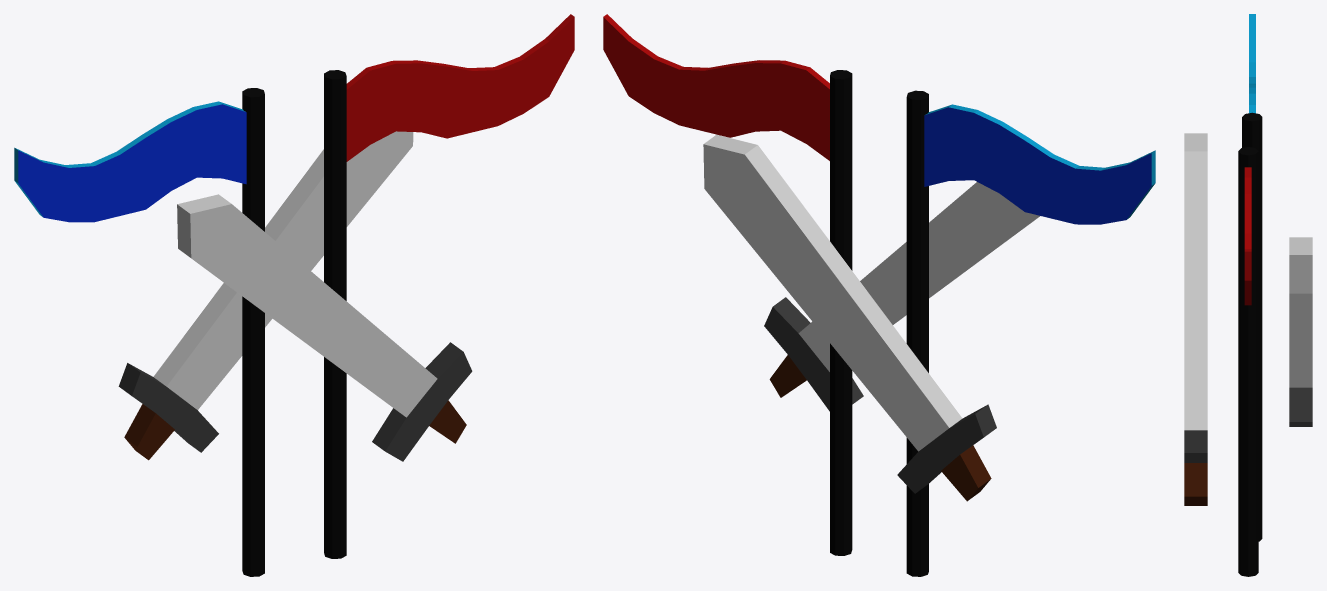
The model's file is battle.obj.
3 renders of one model, left to right at view 1: azimuth 30°, elevation 25°; view 2: azimuth 150°, elevation 25°; view 3: azimuth 270°, elevation 25°, orthographic. The views are drawn at different scales.
Parts seen in each view (by area): view 1: Grid.001, Grid, Plane_Plane.001, Plane.001_Plane.003; view 2: Plane.001_Plane.003, Grid.001, Grid, Plane_Plane.001; view 3: Grid.001, Plane_Plane.001, Plane.001_Plane.003, Grid.
Boxes of the visible parts, x1,y1,x2,y2 form: Grid.001: [324, 14, 574, 558]; Grid: [14, 88, 264, 576]; Plane_Plane.001: [177, 194, 472, 461]; Plane.001_Plane.003: [118, 131, 413, 460]; Plane.001_Plane.003: [703, 134, 996, 501]; Grid.001: [603, 14, 852, 555]; Grid: [906, 90, 1155, 576]; Plane_Plane.001: [764, 182, 1039, 411]; Grid.001: [1238, 147, 1258, 576]; Plane_Plane.001: [1184, 133, 1207, 505]; Plane.001_Plane.003: [1289, 237, 1312, 426]; Grid: [1242, 14, 1262, 541].
Bounding box in the file's own units: 83.27 × 69.08 × 18.97.
